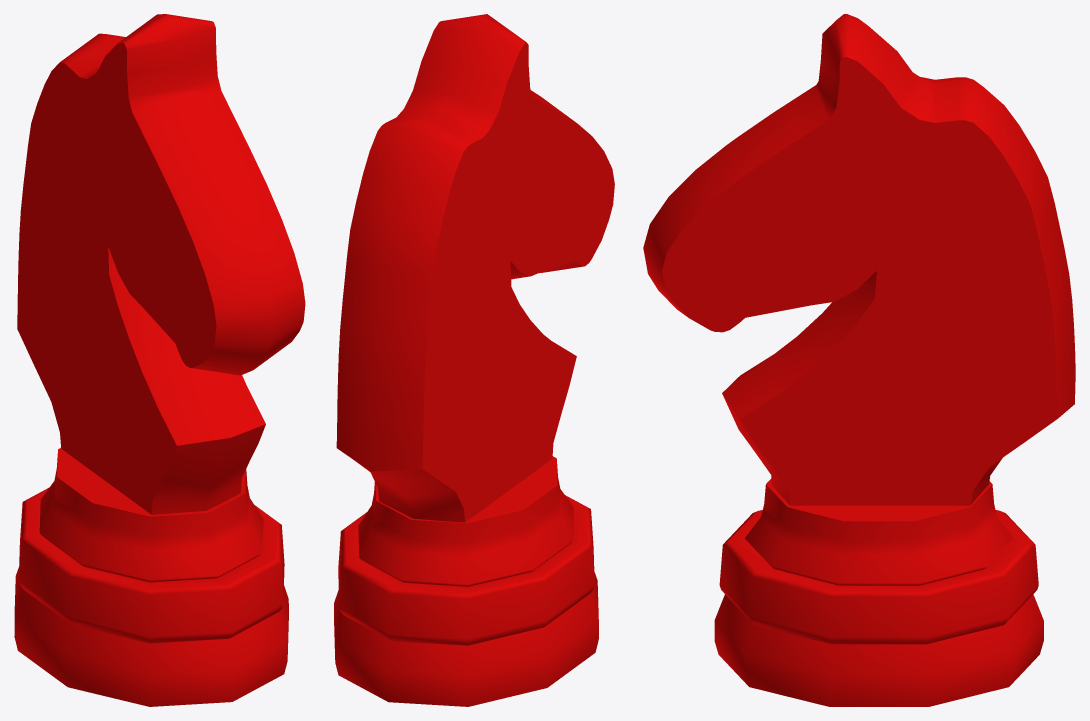
The model's file is item-1-3.glb.
3 views of the same model, side by side, from view 1: azimuth 30°, elevation 25°; view 2: azimuth 150°, elevation 25°; view 3: azimuth 270°, elevation 25° (orthographic). The views are drawn at different scales.
Parts seen in each view (by area): view 1: BlackHorse; view 2: BlackHorse; view 3: BlackHorse.
Part boxes in pixels (x1,y1,x2,y2): BlackHorse: [14, 14, 305, 706]; BlackHorse: [334, 14, 614, 706]; BlackHorse: [643, 14, 1075, 706].
Bounding box in the file's own units: 0.0718 × 0.1965 × 0.1211.
